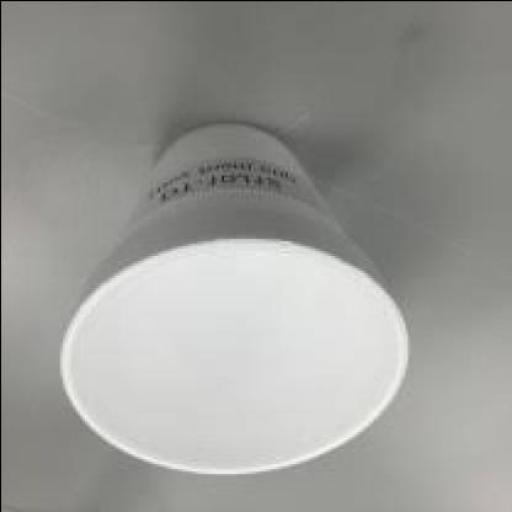paper: (54, 123, 409, 478)
